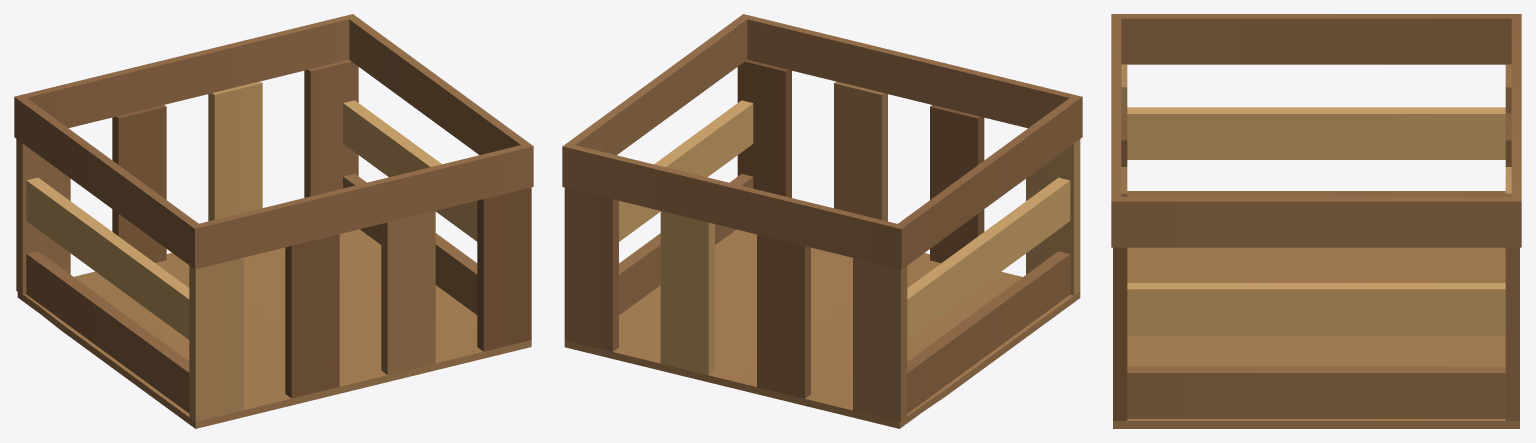
The model's file is Med Light Crate No Lid.fbx.
The picture shows the model from 3 angles, left to right: view 1: azimuth 30°, elevation 25°; view 2: azimuth 150°, elevation 25°; view 3: azimuth 270°, elevation 25°; orthographic projection. The views are drawn at different scales.
Parts seen in each view (by area): view 1: Med Light Crate No Lid; view 2: Med Light Crate No Lid; view 3: Med Light Crate No Lid.
Boxes of the visible parts, left/top/right/bottom form: Med Light Crate No Lid: left=14, top=14, right=533, bottom=428; Med Light Crate No Lid: left=562, top=14, right=1082, bottom=428; Med Light Crate No Lid: left=1111, top=14, right=1521, bottom=428.
Bounding box in the file's own units: 118 × 192 × 208.
Materials: 1 (1 with a texture image).
